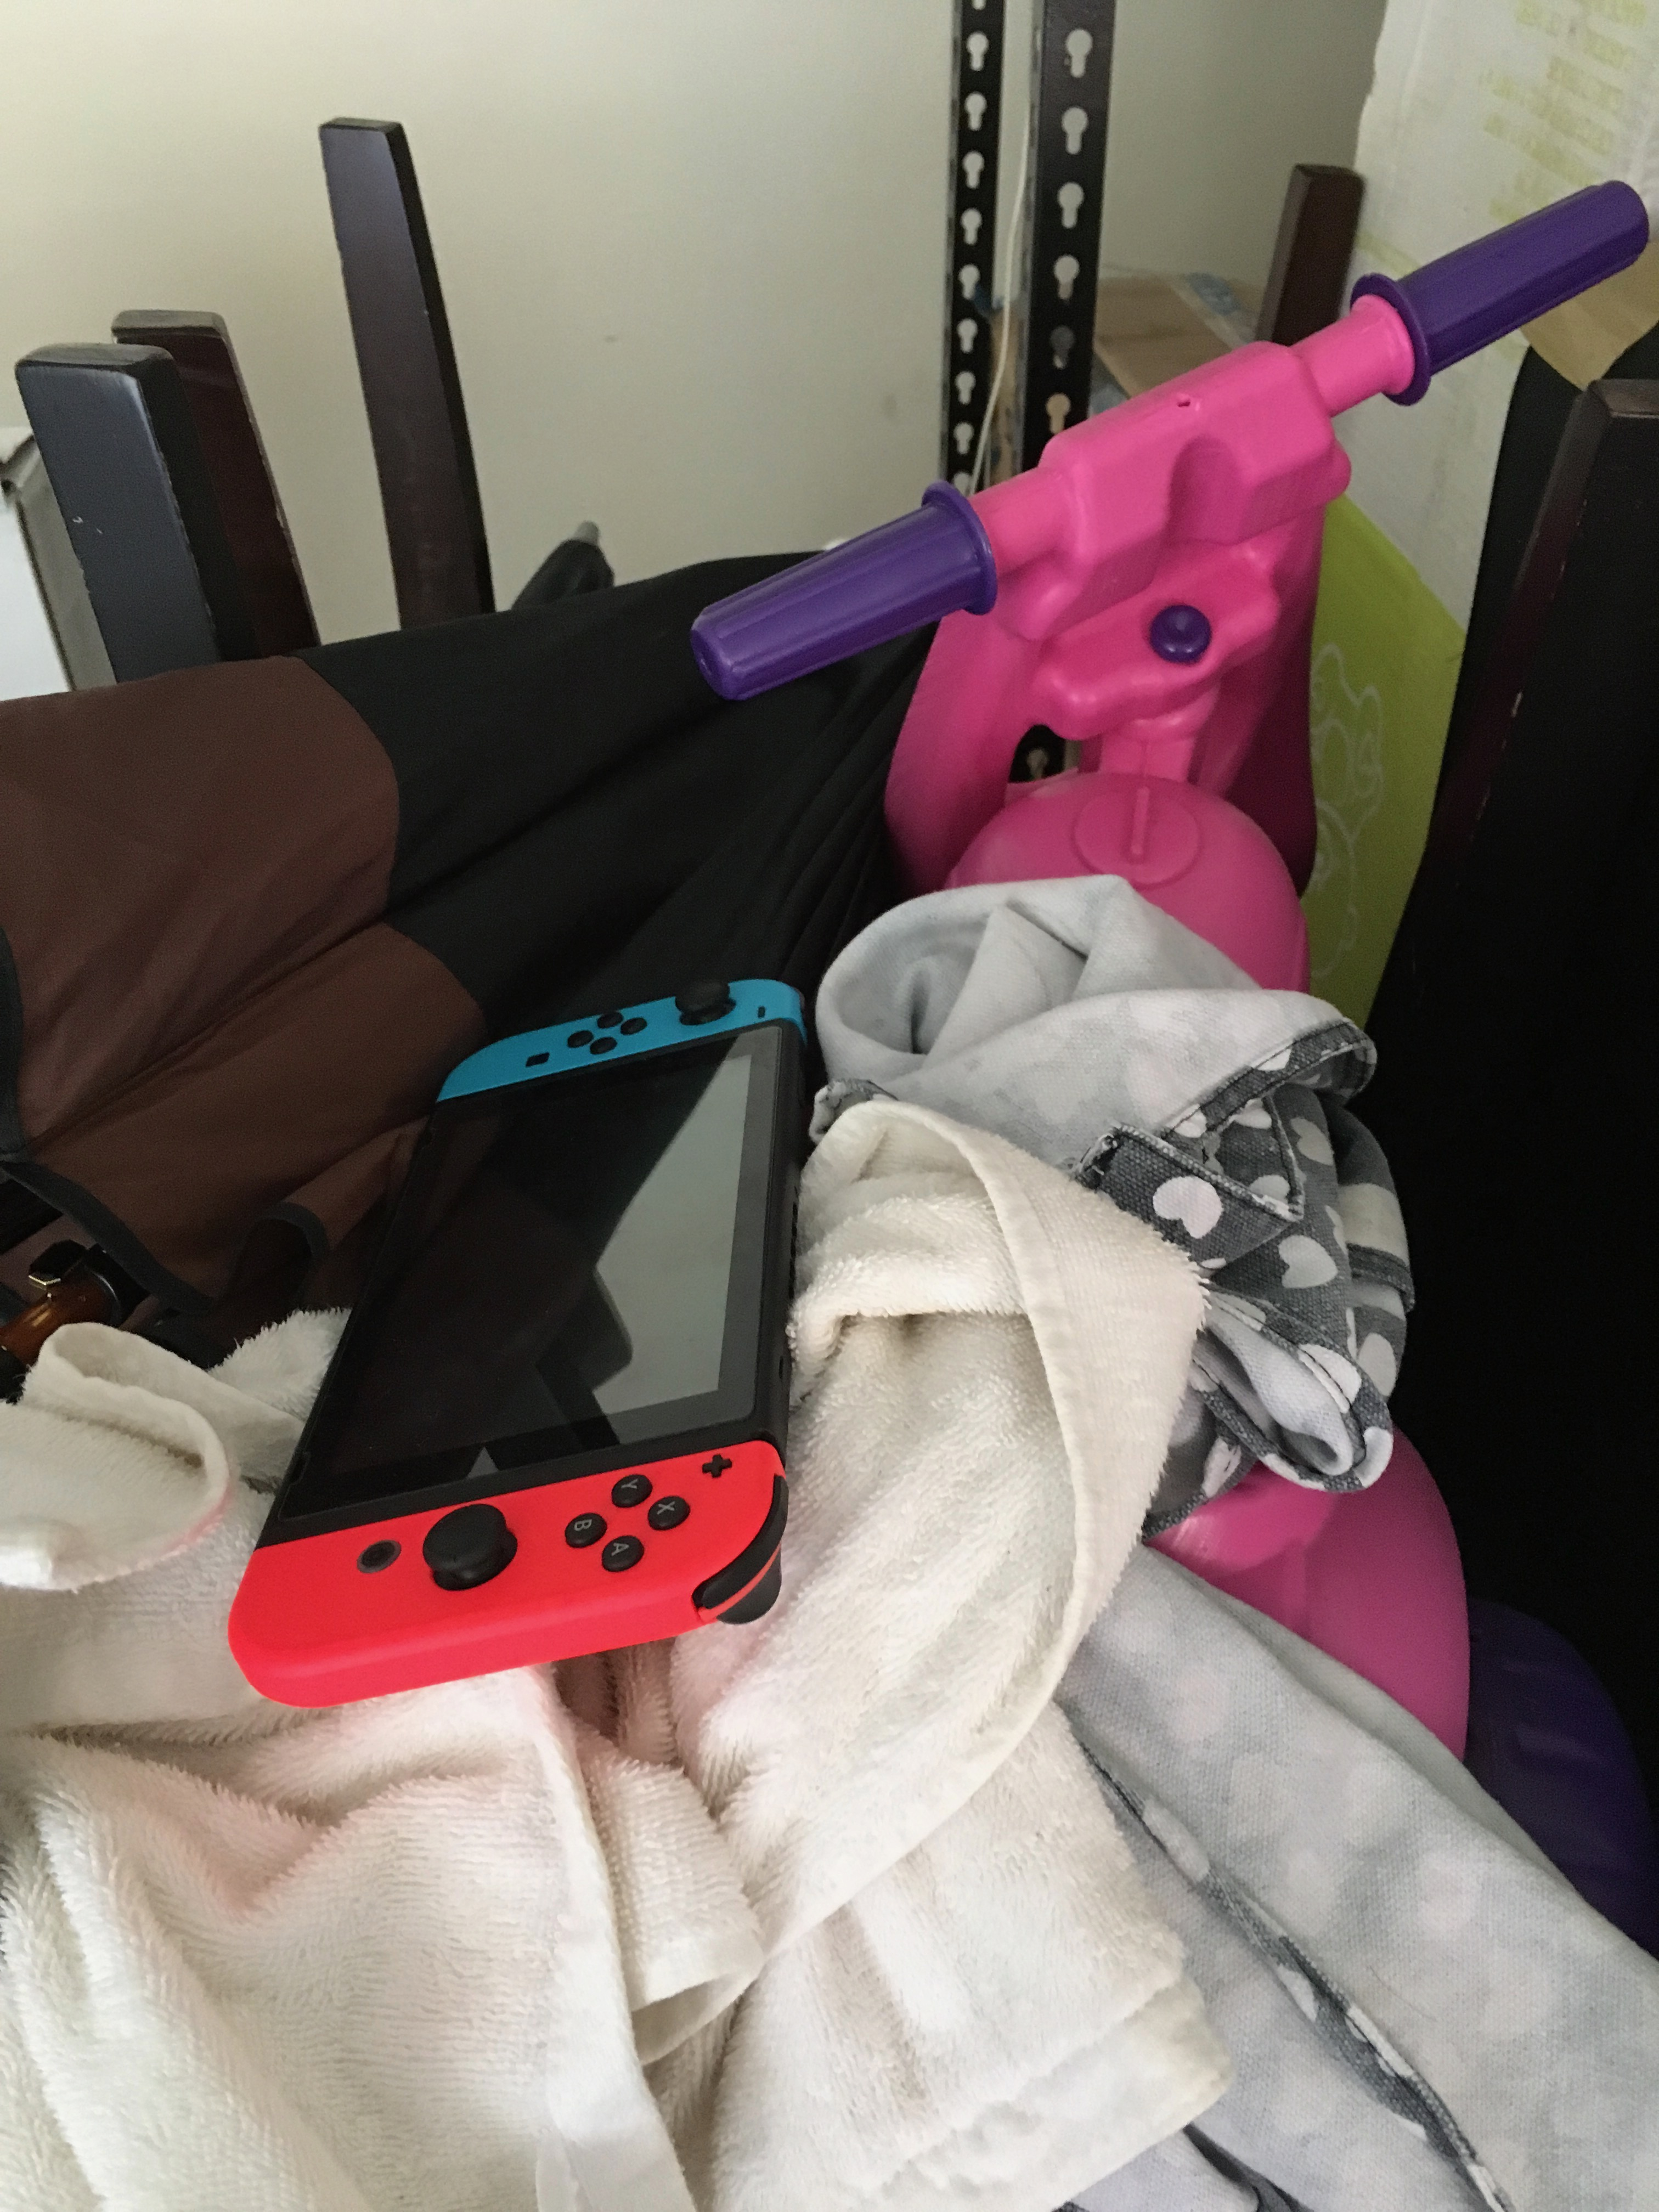NintendoSwitch: (223, 960, 831, 1716)
